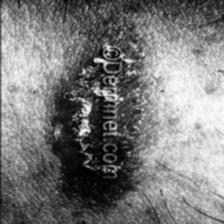Non-Cancerous Skin Condition: (73, 8, 172, 210), (35, 4, 97, 204)
